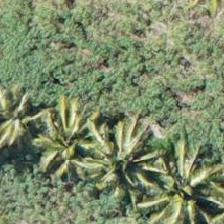coconut_tree: (34, 78, 124, 168), (73, 119, 163, 209), (137, 142, 223, 223), (0, 59, 59, 149)
